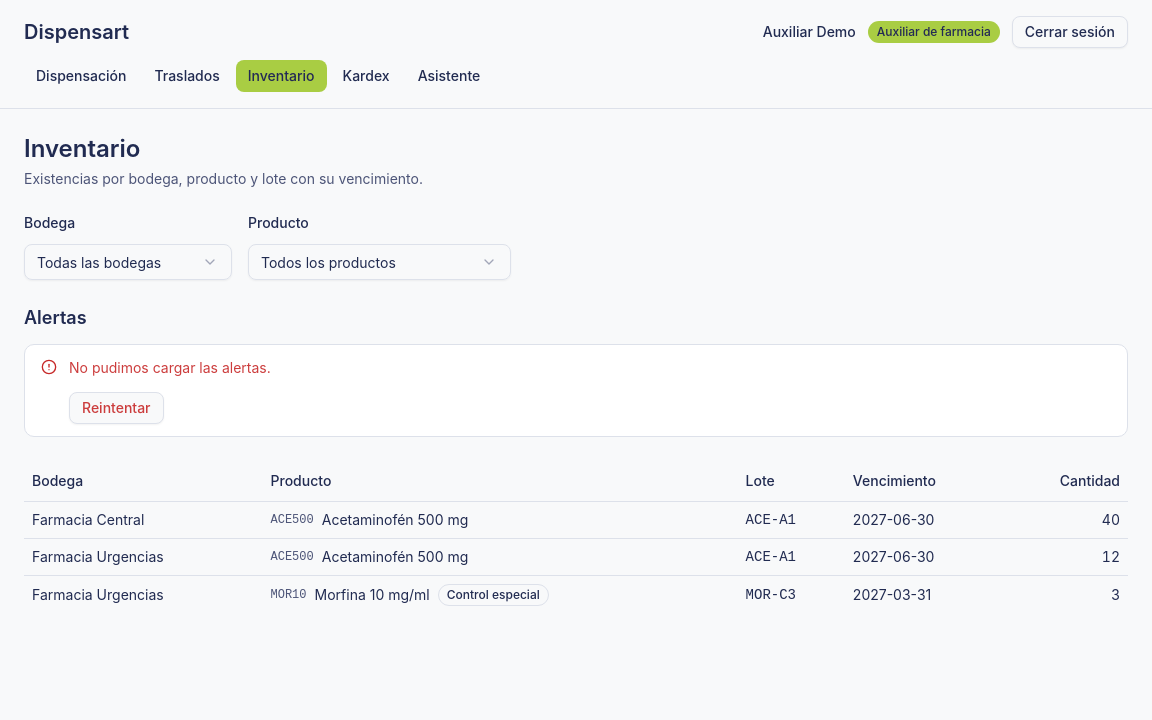
Test: Inventario › alertas de vencimiento y stock mínimo › Alertas fallan y existencias no: tabla completa, "No pudimos cargar las alertas." y "Reintentar" repite la consulta
Check: the message shows "No pudimos cargar las alertas.", box [69,359,271,376]
Check: the table named "Existencias por bodega y lote" is shown, box [24,461,1128,614]
Click the button "Reintentar": (116, 408) [69,392,164,424]
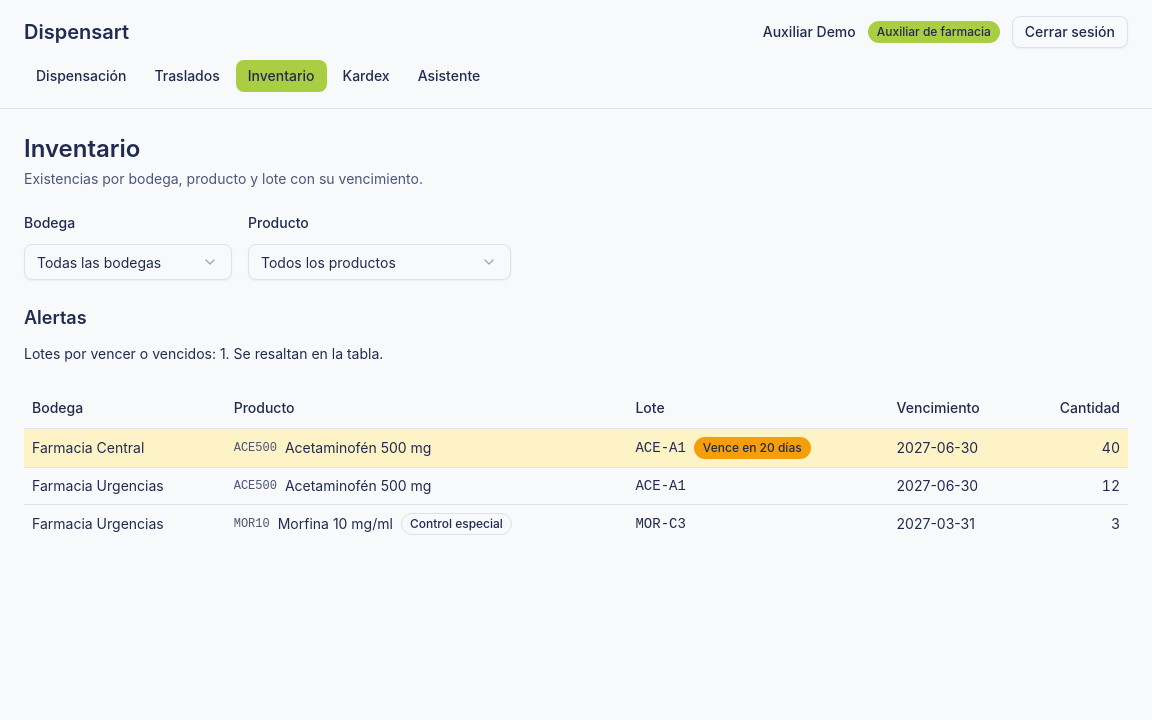
Check: the text "Vence en 20 días" is shown, box [694,437,811,459]
Check: the text "No pudimos cargar las alertas." is gone
